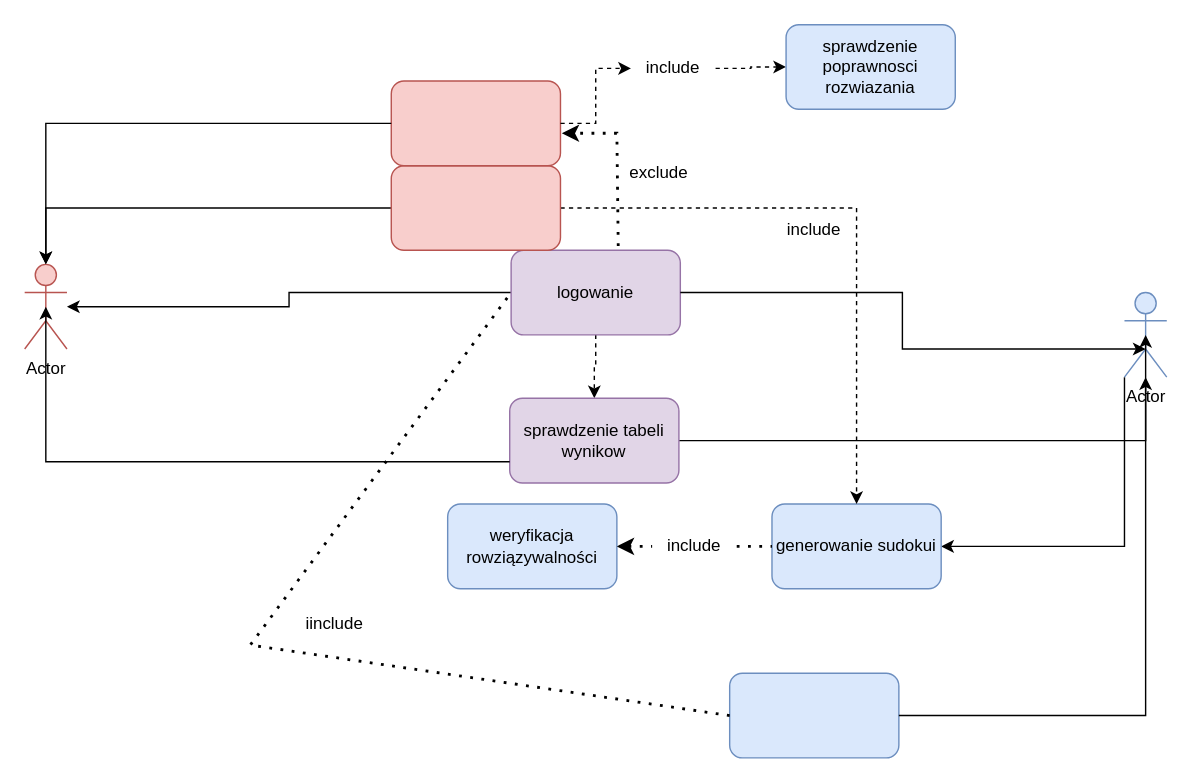
This 1191x783 diagram has some shape labels left out. The shapes that lost their labels are listed below. From the top down, each one's box as (x1, y1, x2, y2) in pixels, then its label:
(390, 80, 560, 166): rozwiazanie sudoku
(390, 164, 560, 250): wybranie poziomu trudnosci
(728, 672, 899, 758): przechowywanie wynikow
